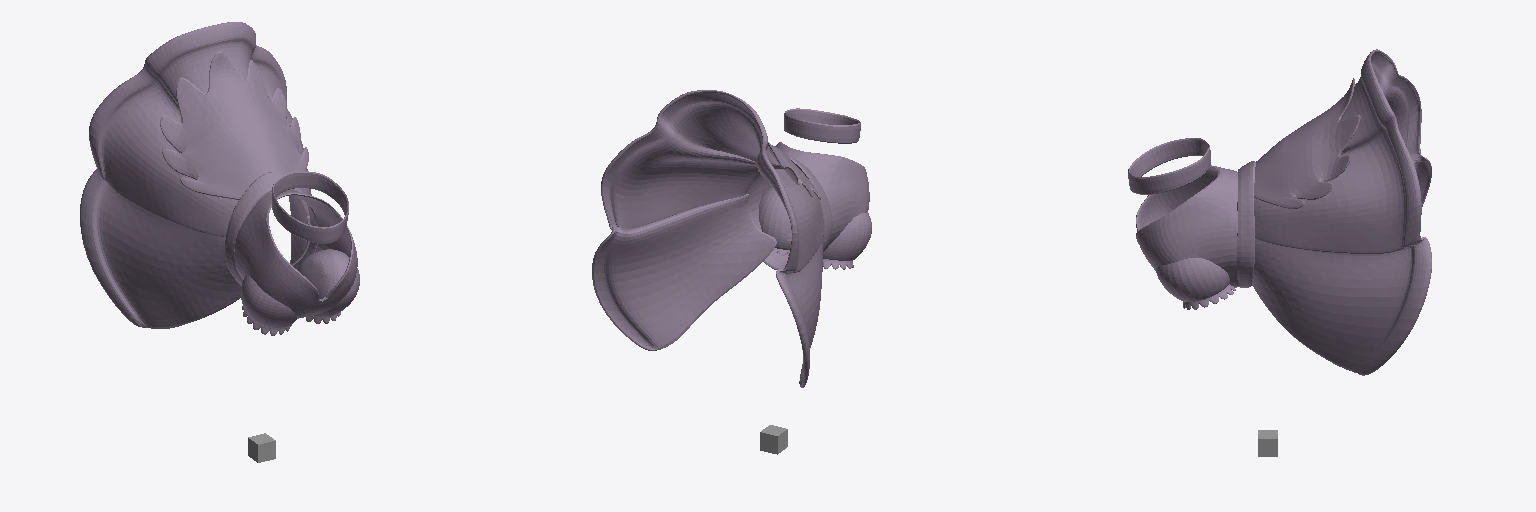
The model's file is dress1.obj.
3 renders of one model, left to right at view 1: azimuth 30°, elevation 25°; view 2: azimuth 150°, elevation 25°; view 3: azimuth 270°, elevation 25°, orthographic.
Visible parts, largest first — view 1: cancan_dress_body0_model0.001, Cube; view 2: cancan_dress_body0_model0.001, Cube; view 3: cancan_dress_body0_model0.001, Cube.
Boxes of the visible parts, x1,y1,x2,y2 form: cancan_dress_body0_model0.001: [80, 22, 359, 335]; Cube: [248, 433, 275, 462]; cancan_dress_body0_model0.001: [592, 90, 871, 387]; Cube: [760, 425, 787, 454]; cancan_dress_body0_model0.001: [1128, 49, 1431, 375]; Cube: [1258, 430, 1277, 456].
Size of the model in its own units: 23.93 by 42.82 by 29.96.